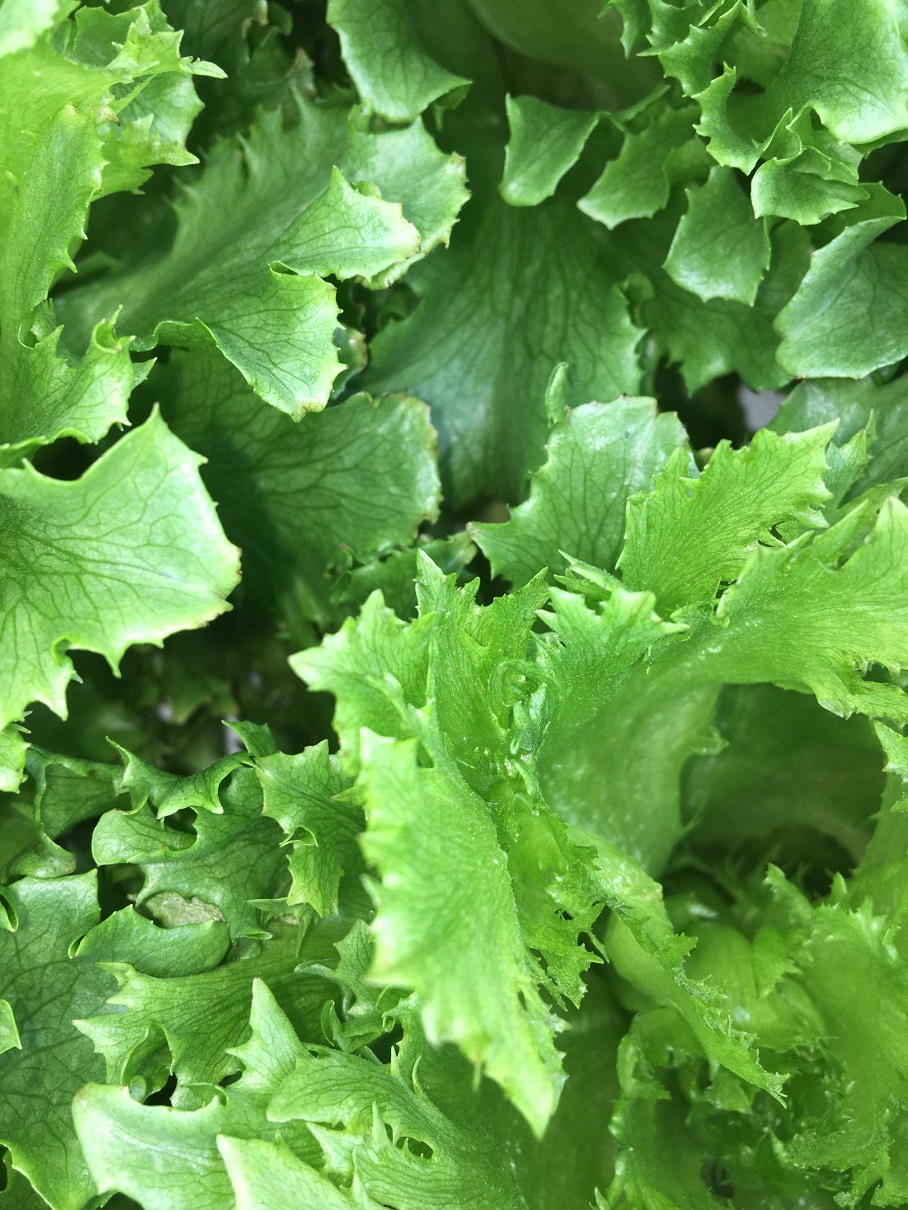tipburn: (325, 533, 388, 592), (339, 324, 384, 372), (86, 92, 131, 139), (100, 322, 145, 369), (221, 548, 261, 589), (398, 227, 436, 263), (73, 1069, 109, 1107), (453, 507, 488, 546), (420, 425, 454, 463), (399, 383, 435, 418), (612, 376, 647, 411), (116, 1069, 145, 1104), (787, 363, 823, 387), (291, 399, 319, 420)
